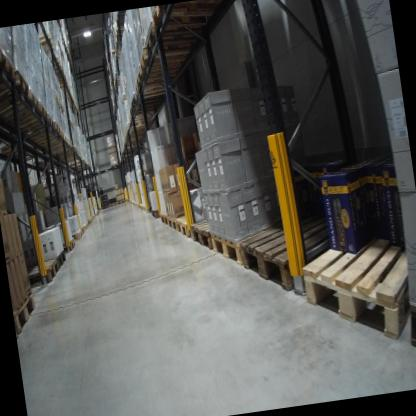pallet: (296, 215, 416, 358), (235, 203, 361, 298), (210, 217, 291, 272), (141, 12, 220, 50), (147, 0, 235, 29), (135, 41, 197, 72), (0, 72, 35, 123), (0, 89, 43, 126), (133, 58, 184, 89), (6, 102, 51, 137), (187, 214, 224, 253), (11, 292, 41, 335), (175, 207, 211, 240), (0, 45, 21, 100), (130, 74, 168, 101), (26, 257, 62, 284), (22, 115, 56, 142), (127, 90, 169, 110), (126, 101, 163, 117), (124, 116, 157, 132), (0, 138, 26, 158), (52, 248, 68, 268), (13, 150, 36, 163), (38, 32, 55, 49), (58, 237, 76, 251), (46, 55, 62, 70), (168, 213, 178, 234), (149, 204, 161, 221), (158, 210, 169, 226), (49, 87, 60, 103), (70, 229, 83, 240), (56, 100, 66, 112), (110, 160, 120, 169), (115, 198, 126, 206), (68, 117, 75, 129), (99, 203, 110, 208), (79, 225, 85, 234), (109, 201, 118, 207)
